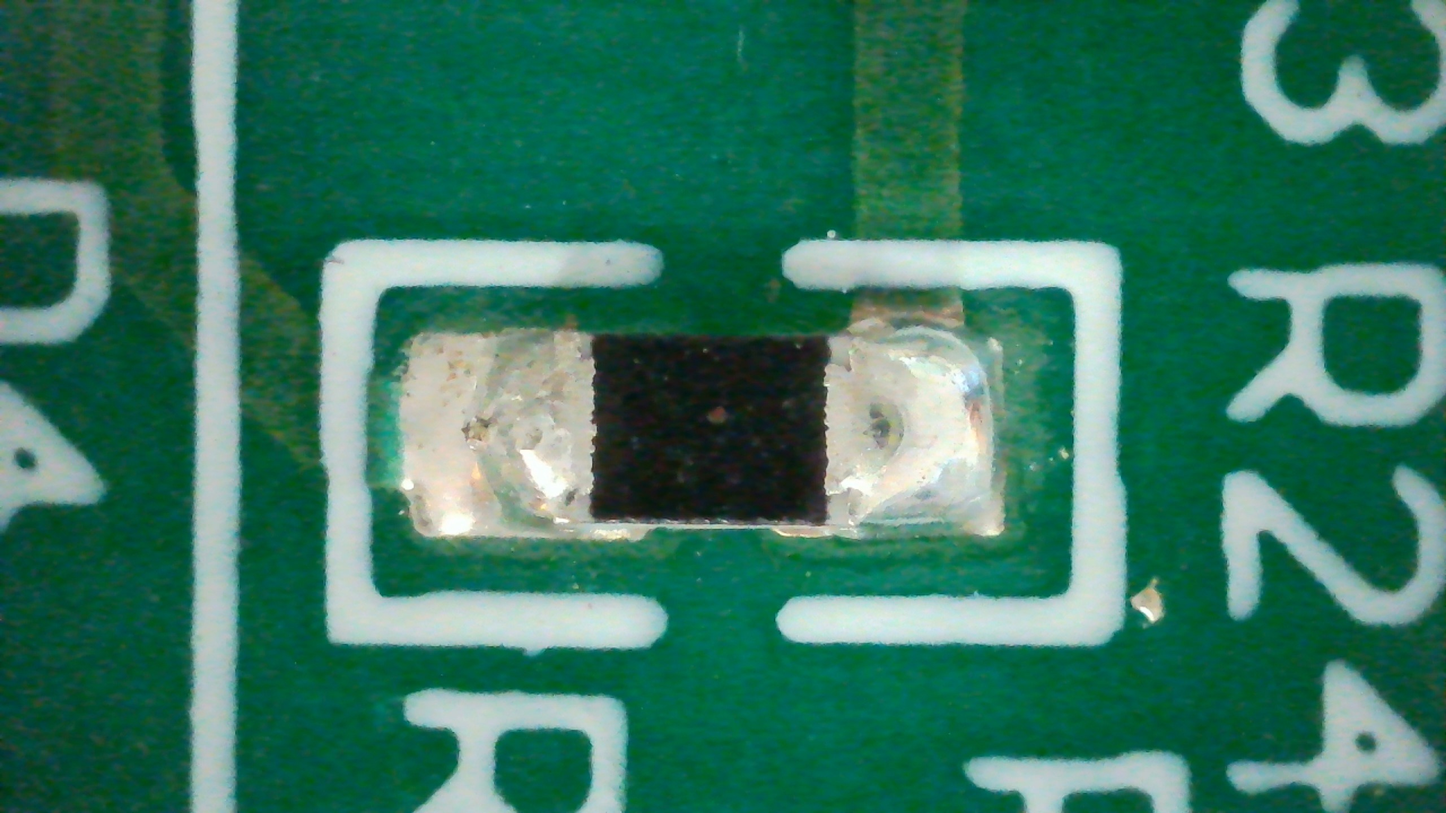OK: (396, 330, 1001, 544)
